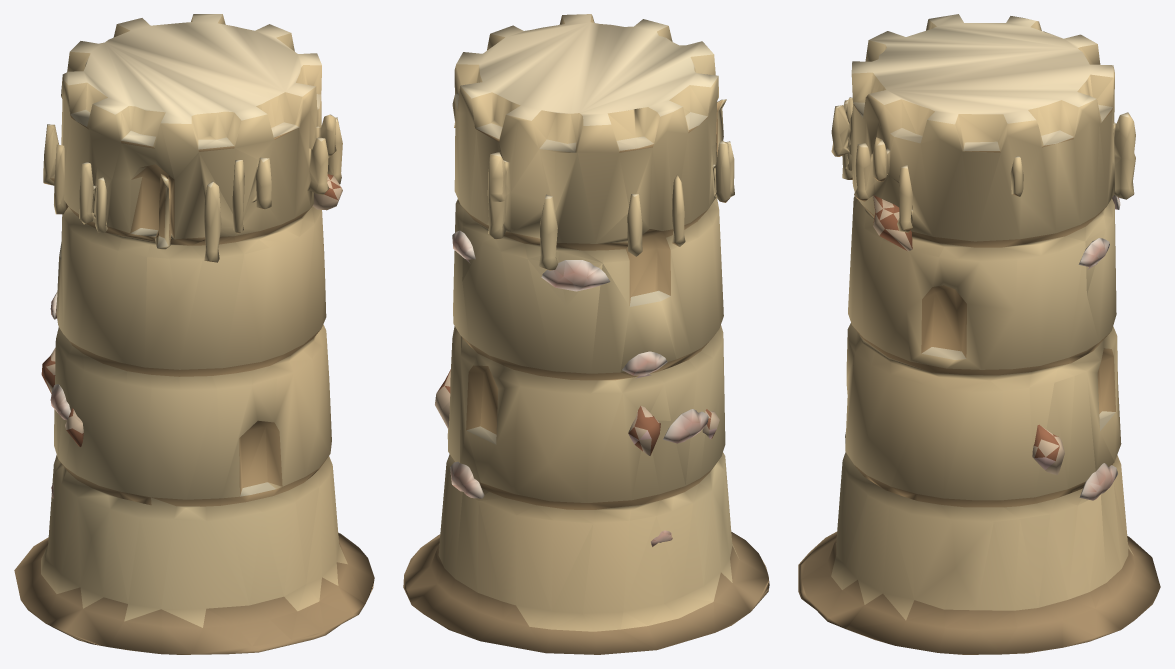
File: shore_castle_keep_lod2.glb
3 renders of one model, left to right at view 1: azimuth 30°, elevation 25°; view 2: azimuth 150°, elevation 25°; view 3: azimuth 270°, elevation 25°, orthographic.
Visible parts, largest first — view 1: shore_castle_keep.001; view 2: shore_castle_keep.001; view 3: shore_castle_keep.001.
Part boxes in pixels (x1,y1,x2,y2): shore_castle_keep.001: (14,14,374,654); shore_castle_keep.001: (403,14,769,654); shore_castle_keep.001: (798,14,1160,654).
Bounding box in the file's own units: 15.33 × 23.99 × 15.42.
